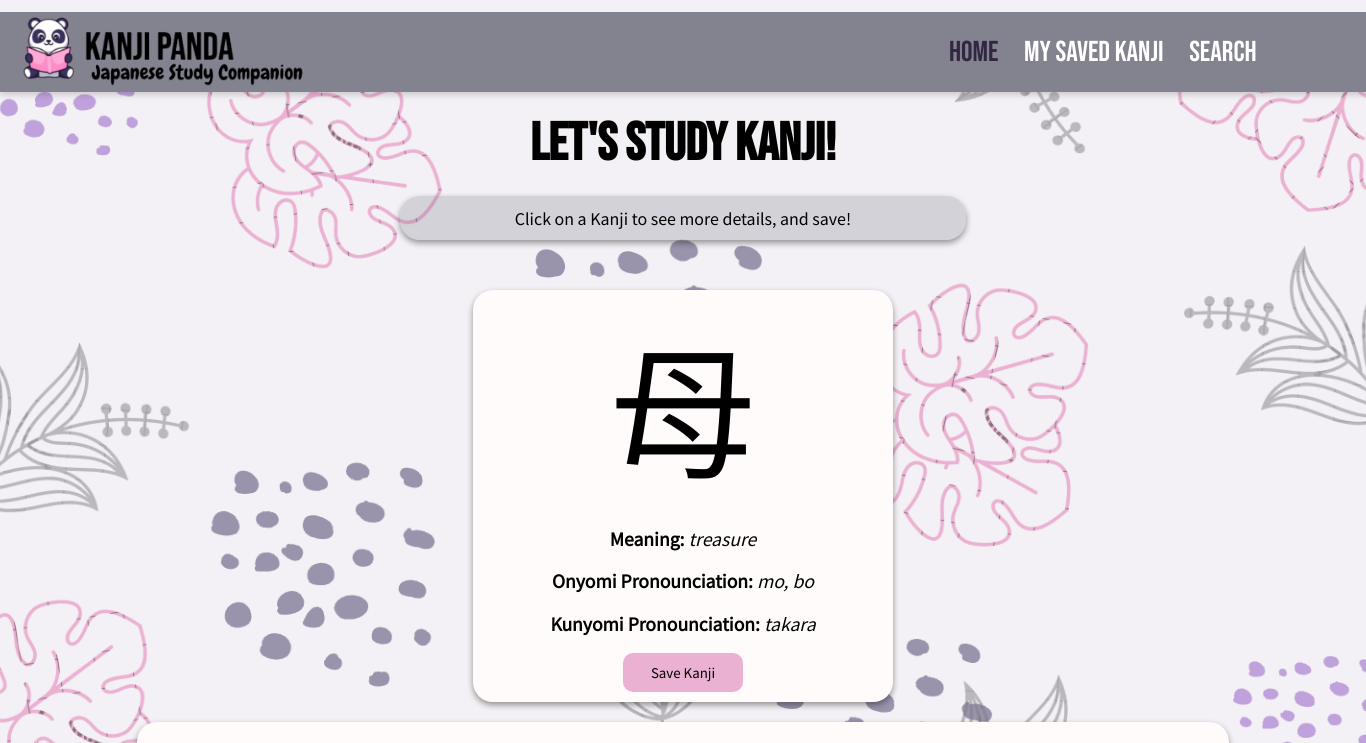
User can search for kanji › should be able to navigate to search page and see header, instructions and search bar
Click the link "Search". click: (1223, 53)
box: [1189, 35, 1257, 70]
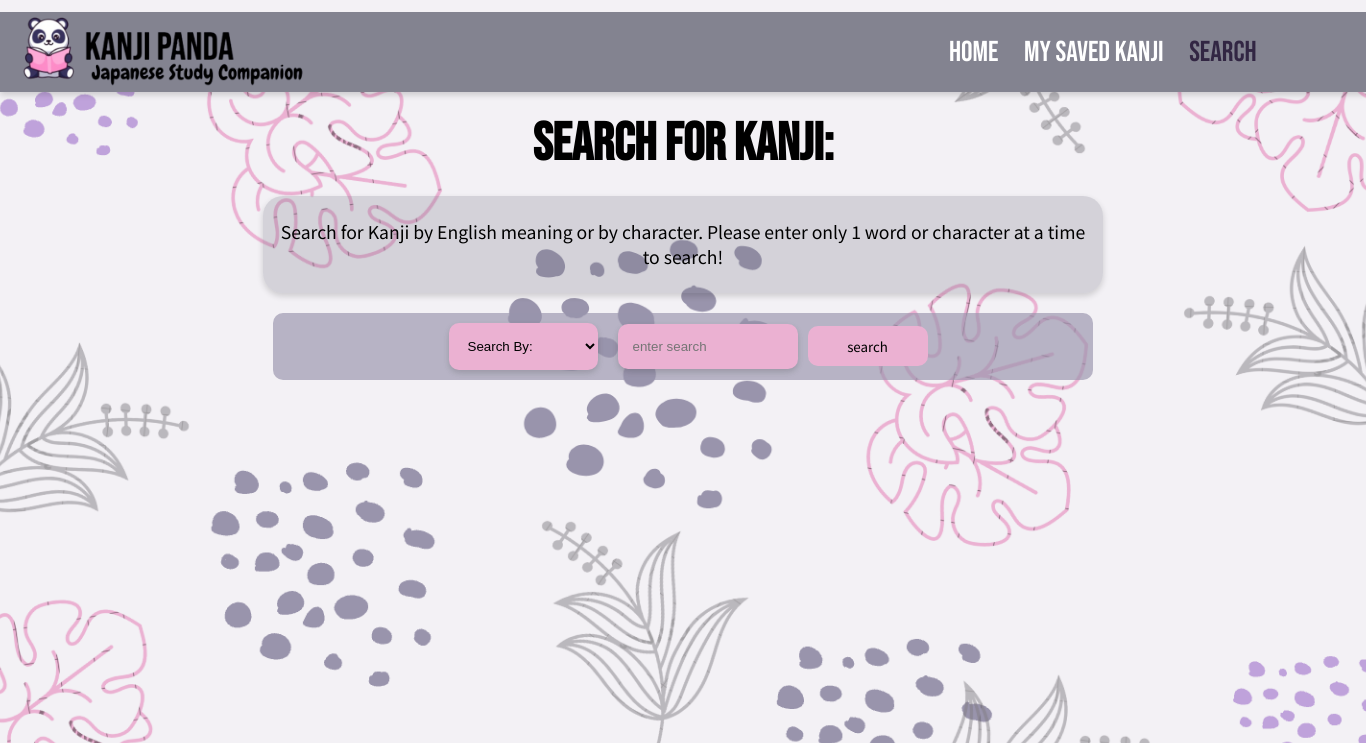
Now the heading with class "header" reads "Search for Kanji:", box [533, 112, 834, 176]
Now the text with class "kanji-text" shows "Search for Kanji by English meaning or by character. Please enter only 1 word or character at a time to search!", box [273, 219, 1093, 269]
Now the form is shown, box [273, 313, 1093, 380]
